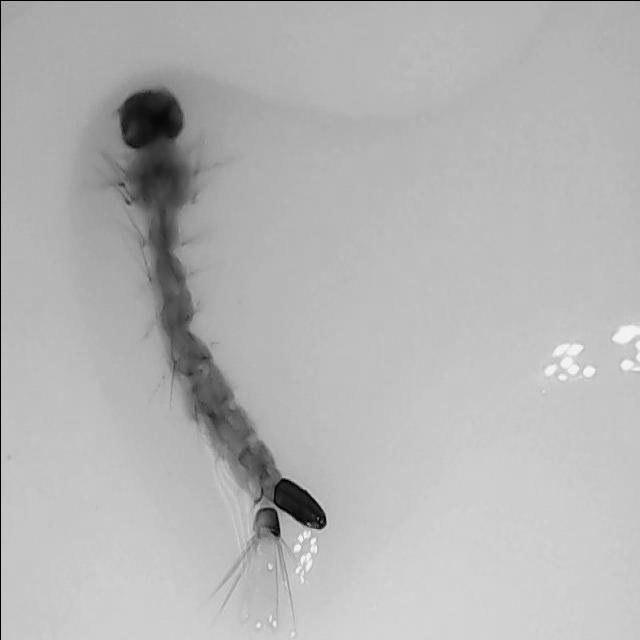larvas: (120, 90, 322, 533)
